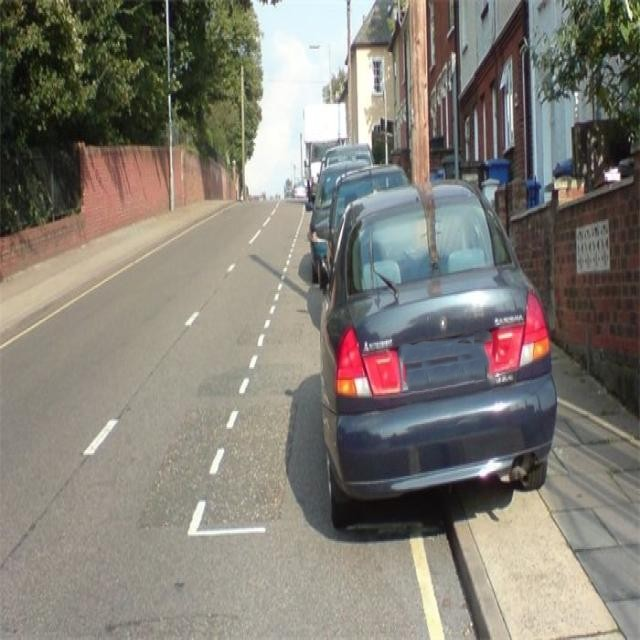car: (322, 183, 558, 532)
